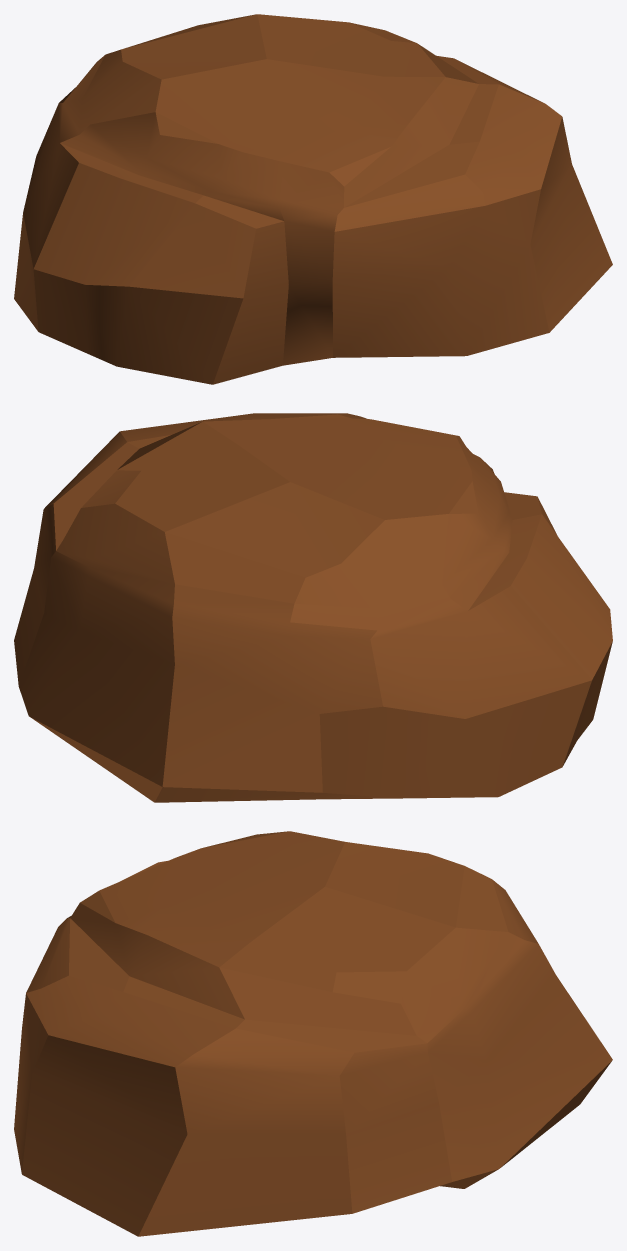
File: rock_1.glb
3 views of the same model, one above another, from view 1: azimuth 30°, elevation 25°; view 2: azimuth 150°, elevation 25°; view 3: azimuth 270°, elevation 25° (orthographic). The views are drawn at different scales.
Visible parts, largest first — view 1: Rock_Large_1; view 2: Rock_Large_1; view 3: Rock_Large_1.
Part boxes in pixels (x1=…): Rock_Large_1: x1=14, y1=14, x2=612, y2=384; Rock_Large_1: x1=14, y1=413, x2=612, y2=802; Rock_Large_1: x1=14, y1=831, x2=612, y2=1236.
Bounding box in the file's own units: 7.67 × 3.29 × 7.33.
1 material, 1 textured.
